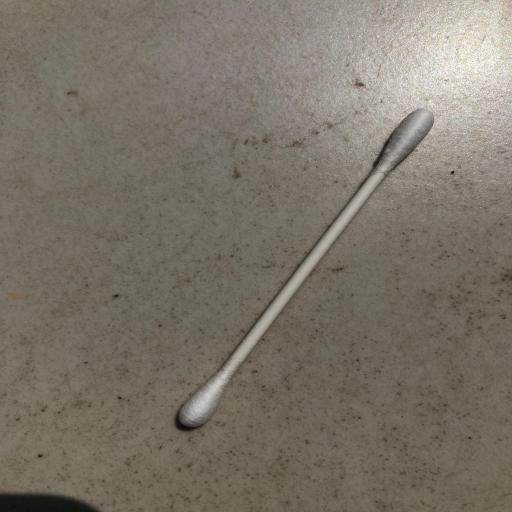waste: (154, 94, 461, 435)
